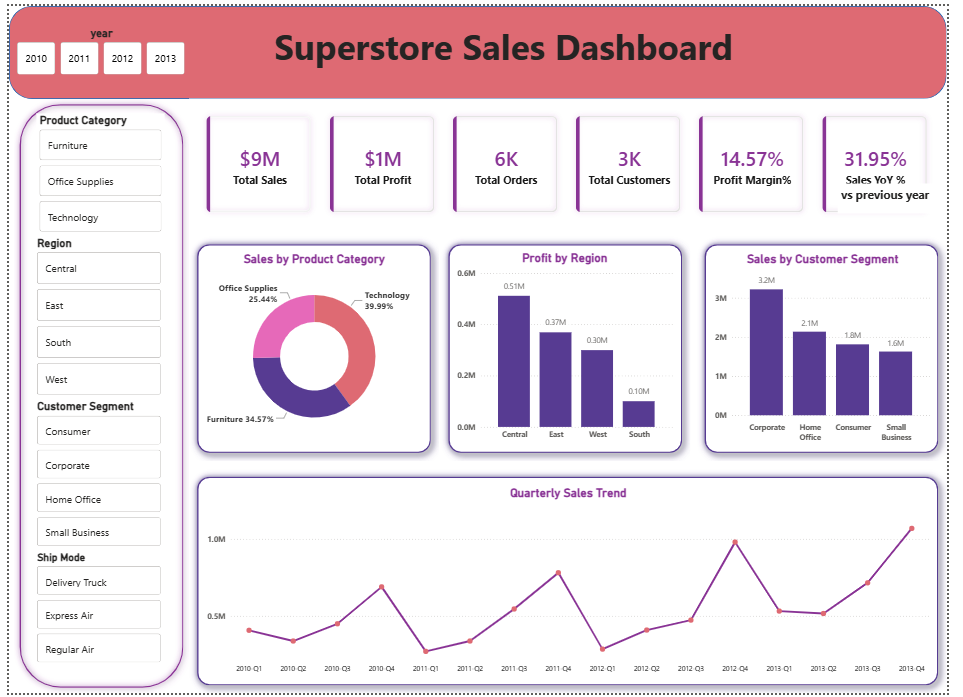

The page's visual inventory and layout, read from the dashboard file:
{"tool":"powerbi","page":{"name":"Page 1","canvas":[1280,720],"ordinal":0},"visuals":[{"type":"slicer","fields":{"Values":["samplesuperstore_cleaned.region"]},"box":[0,0,181.3,143.5],"z":0},{"type":"slicer","fields":{"Values":["samplesuperstore_cleaned.ship_mode"]},"box":[0,143.5,181.3,138],"z":1000},{"type":"slicer","fields":{"Values":["samplesuperstore_cleaned.product_category"]},"box":[0,281.5,181.3,128.6],"z":2000},{"type":"slicer","fields":{"Values":["samplesuperstore_cleaned.customer_segment"]},"box":[0,410.1,181.3,146.2],"z":3000},{"type":"slicer","title":"Order Date","fields":{"Values":["samplesuperstore_cleaned.order_date"]},"box":[0,556.2,181.3,163.8],"z":4000},{"type":"lineClusteredColumnComboChart","title":" sales and  profit by product_category","fields":{"Category":["samplesuperstore_cleaned.product_category"],"Y":["Sum(samplesuperstore_cleaned.sales)","Sum(samplesuperstore_cleaned.profit)"]},"box":[617.5,167.5,327.7,251.9],"z":5000},{"type":"clusteredColumnChart","title":" sales and profit by region","fields":{"Category":["samplesuperstore_cleaned.region"],"Y":["Sum(samplesuperstore_cleaned.sales)","Sum(samplesuperstore_cleaned.profit)"]},"box":[223.8,166.2,386.2,252.5],"z":6000},{"type":"textbox","box":[309.9,0,748.4,66.3],"z":7000},{"type":"cardVisual","title":"Max Sale","fields":{"Data":["samplesuperstore_cleaned.Max Sale"]},"box":[886.4,54.1,190.8,100.1],"z":8000},{"type":"cardVisual","title":"Min Sale","fields":{"Data":["samplesuperstore_cleaned.Min Sale"]},"box":[1077.3,54.1,173.2,101.5],"z":9000},{"type":"cardVisual","title":"Profit Margin%","fields":{"Data":["samplesuperstore_cleaned.Progit Margin%"]},"box":[713.2,54.1,173.2,100.1],"z":10000},{"type":"cardVisual","title":"Total Orders","fields":{"Data":["samplesuperstore_cleaned.Total Orders"]},"box":[368.1,55.5,150.2,101.5],"z":11000},{"type":"cardVisual","title":"Total Profit","fields":{"Data":["samplesuperstore_cleaned.Total Profit"]},"box":[518.3,55.5,194.9,100.1],"z":12000},{"type":"cardVisual","title":"Total Sales","fields":{"Data":["samplesuperstore_cleaned.Total Sales"]},"box":[192.2,54.1,175.9,104.2],"z":13000},{"type":"lineChart","title":" Monthly Sales   Trend","fields":{"Category":["samplesuperstore_cleaned.order_date.Variation.Date Hierarchy.Month","samplesuperstore_cleaned.order_date.Variation.Date Hierarchy.Day"],"Y":["Sum(samplesuperstore_cleaned.sales)","Sum(samplesuperstore_cleaned.profit)"]},"box":[223.8,430.4,415.8,289.8],"z":14000},{"type":"lineStackedColumnComboChart","title":"Profit by Discount","fields":{"Y":["Sum(samplesuperstore_cleaned.profit)"],"Category":["samplesuperstore_cleaned.Discount_Bucket"]},"box":[640.1,430.4,355.9,289.6],"z":15000},{"type":"tableEx","title":"Top 10 Customers by Sales","fields":{"Values":["samplesuperstore_cleaned.customer_name","Sum(samplesuperstore_cleaned.sales)"]},"box":[996.1,430.4,269.3,289.6],"z":16000},{"type":"map","title":"Sales by State","fields":{"Category":["samplesuperstore_cleaned.state_or_province"],"Size":["Sum(samplesuperstore_cleaned.sales)"]},"box":[945.2,167.5,320.4,251.9],"z":17000}]}

Visuals, with their boxes on the page's 1280x720 design canvas (x1, y1, x2, y2). These are canvas units, not pixel positions in the 963x697 screenshot, which may show the page scaled, cropped or inside an application window:
slicer - samplesuperstore_cleaned.region: (0,0,181,144)
slicer - samplesuperstore_cleaned.ship_mode: (0,144,181,282)
slicer - samplesuperstore_cleaned.product_category: (0,282,181,410)
slicer - samplesuperstore_cleaned.customer_segment: (0,410,181,556)
"Order Date" slicer: (0,556,181,720)
" sales and  profit by product_category" lineClusteredColumnComboChart: (618,168,945,419)
" sales and profit by region" clusteredColumnChart: (224,166,610,419)
textbox: (310,0,1058,66)
"Max Sale" cardVisual: (886,54,1077,154)
"Min Sale" cardVisual: (1077,54,1250,156)
"Profit Margin%" cardVisual: (713,54,886,154)
"Total Orders" cardVisual: (368,56,518,157)
"Total Profit" cardVisual: (518,56,713,156)
"Total Sales" cardVisual: (192,54,368,158)
" Monthly Sales   Trend" lineChart: (224,430,640,720)
"Profit by Discount" lineStackedColumnComboChart: (640,430,996,720)
"Top 10 Customers by Sales" tableEx: (996,430,1265,720)
"Sales by State" map: (945,168,1266,419)
